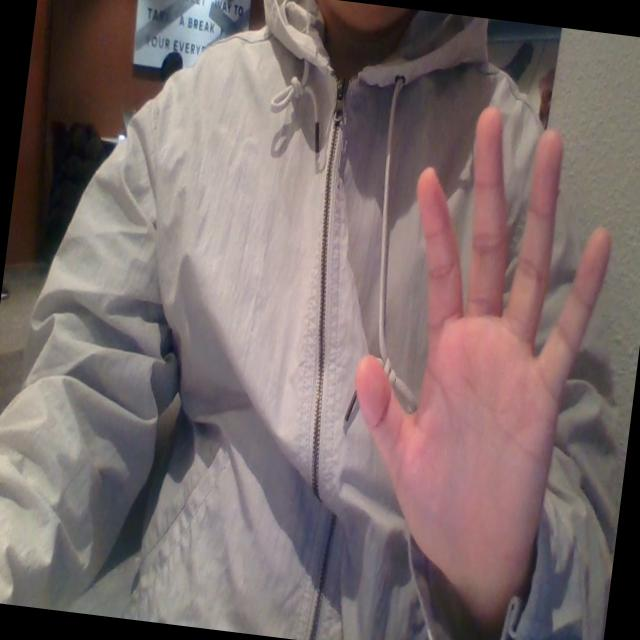hand: (326, 97, 622, 612)
